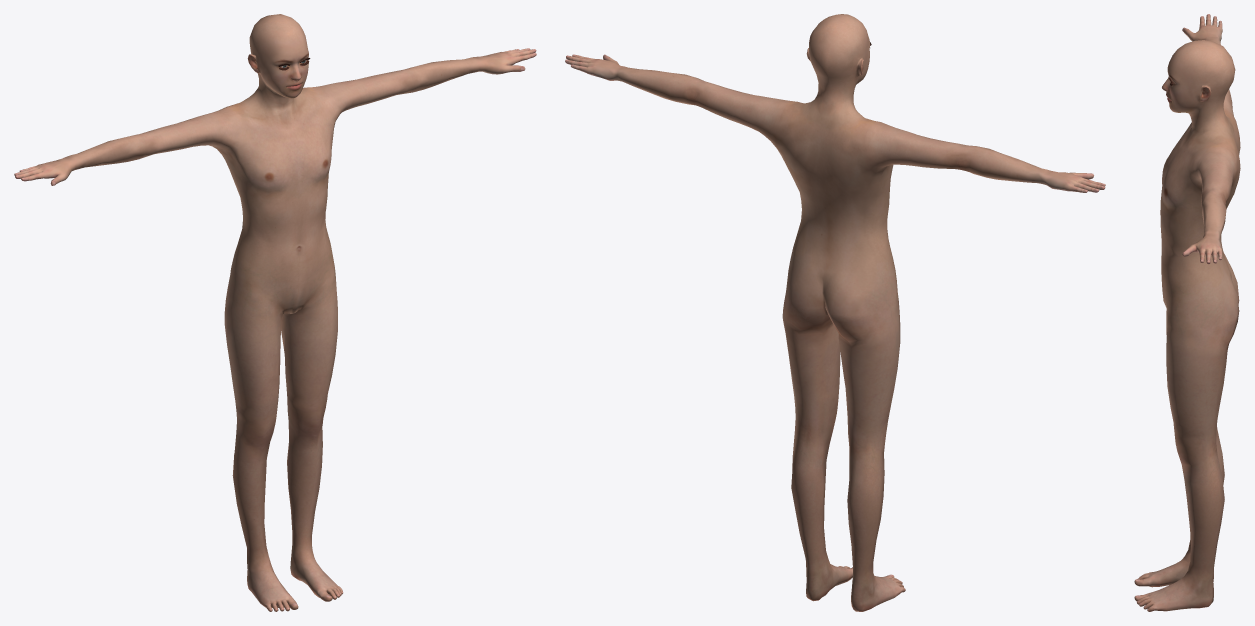
3 views of the same model, side by side, from view 1: azimuth 30°, elevation 25°; view 2: azimuth 150°, elevation 25°; view 3: azimuth 270°, elevation 25° (orthographic). The views are drawn at different scales.
Parts seen in each view (by area): view 1: CC_Game_Body; view 2: CC_Game_Body; view 3: CC_Game_Body.
Boxes of the visible parts, x1,y1,x2,y2 form: CC_Game_Body: [14, 14, 536, 611]; CC_Game_Body: [565, 14, 1105, 611]; CC_Game_Body: [1134, 14, 1240, 611].
Bounding box in the file's own units: 172 × 179 × 31.08.
